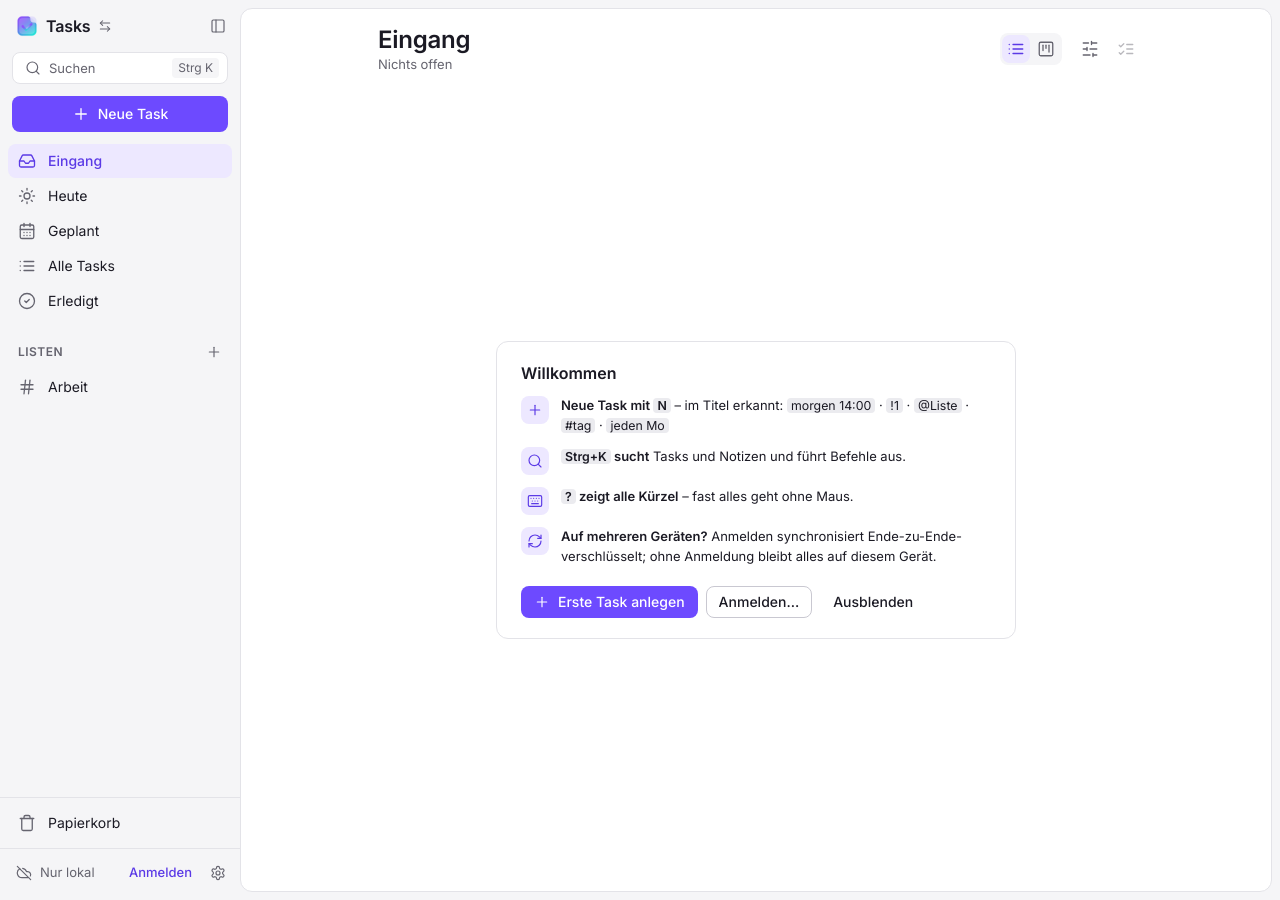
Test: App navigation › starts in the inbox and switches views via the sidebar
Expected: the link "Arbeit" is shown, [18,378,88,396]
Expected: the heading "Eingang" is shown, [378,25,470,55]
Click the link "Heute": (53, 196) [18,187,88,205]
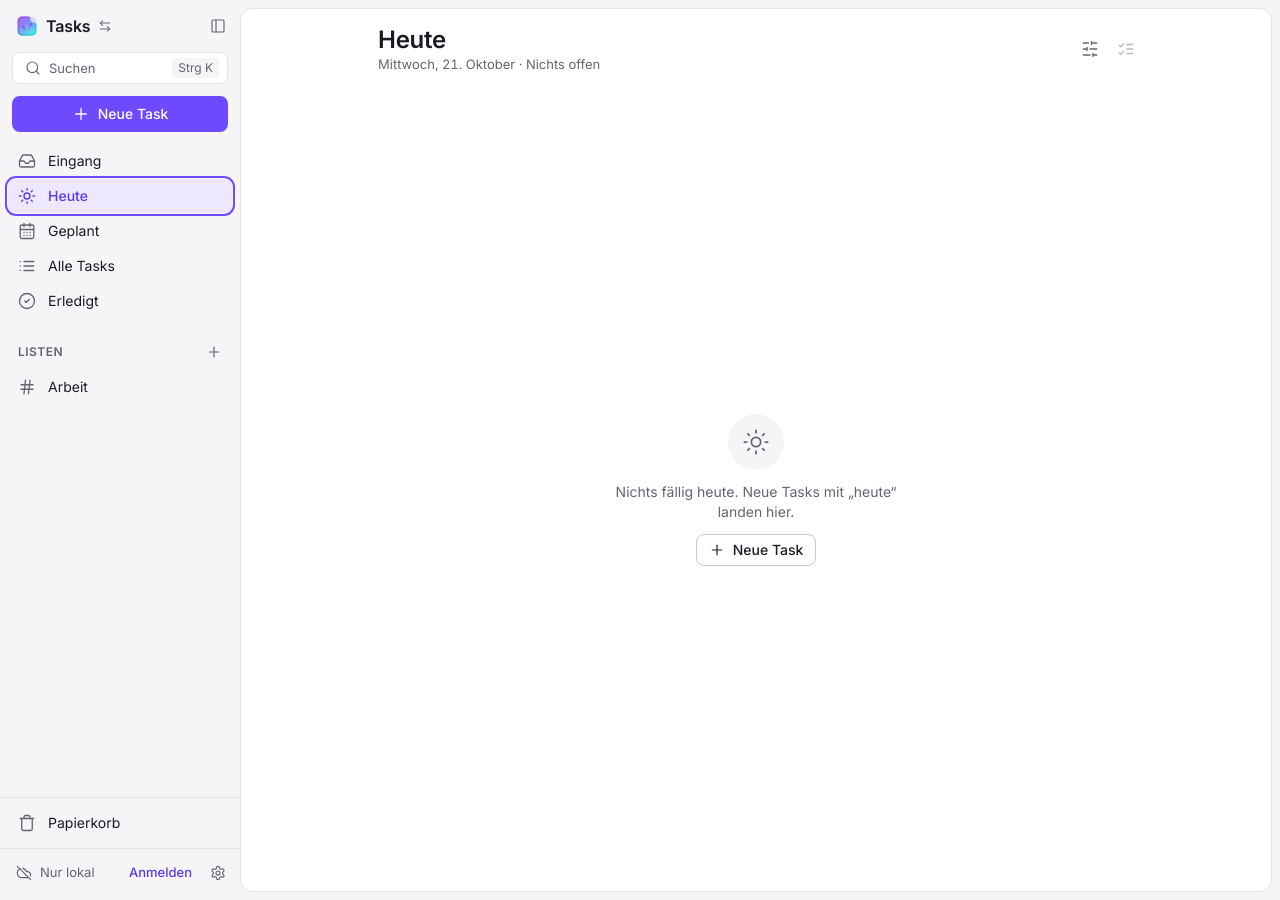
Expected: the heading reads "Heute", [378,25,446,54]
Click the link "Arbeit": (53, 387) [18,378,88,396]
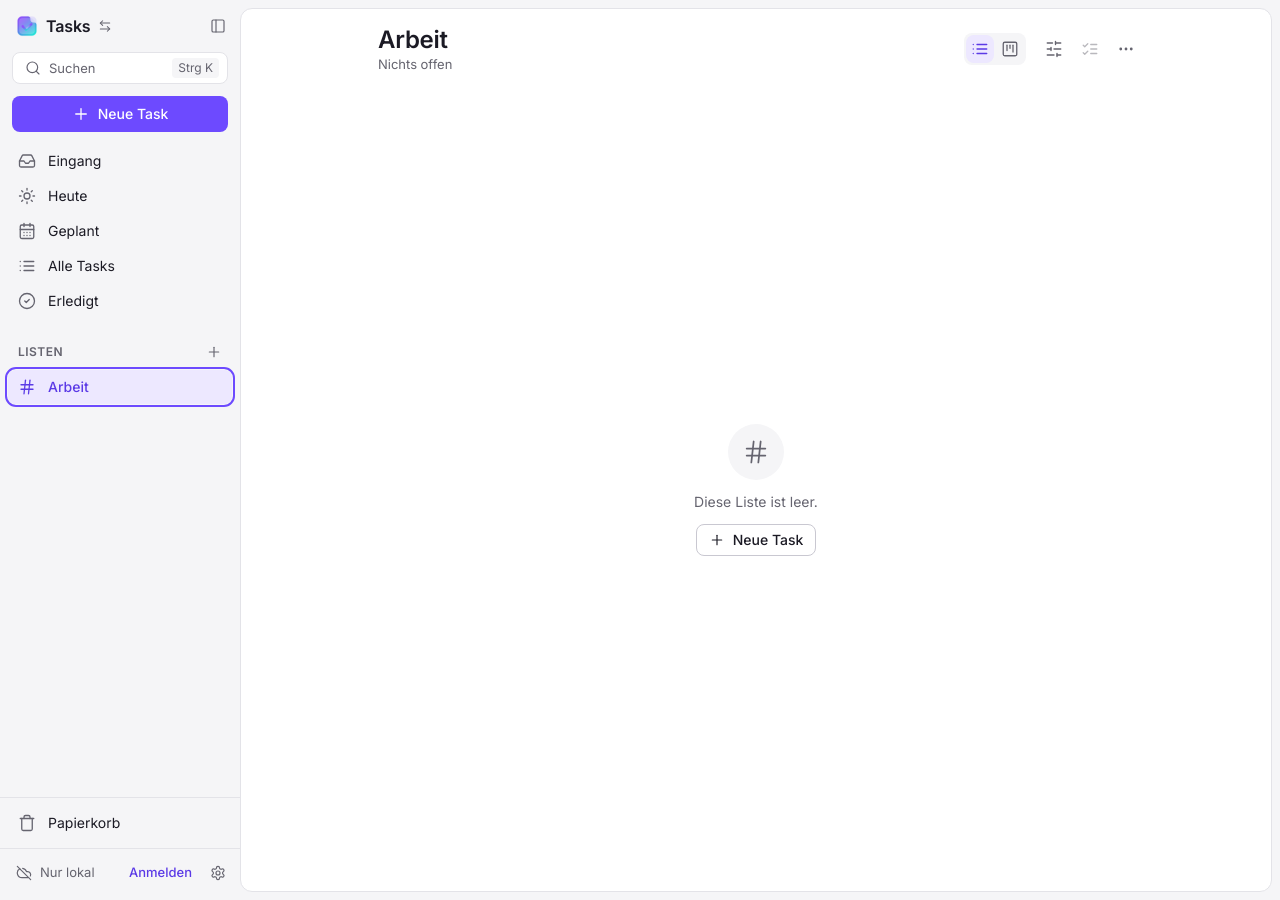
Expected: the heading reads "Arbeit", [378,25,448,54]
